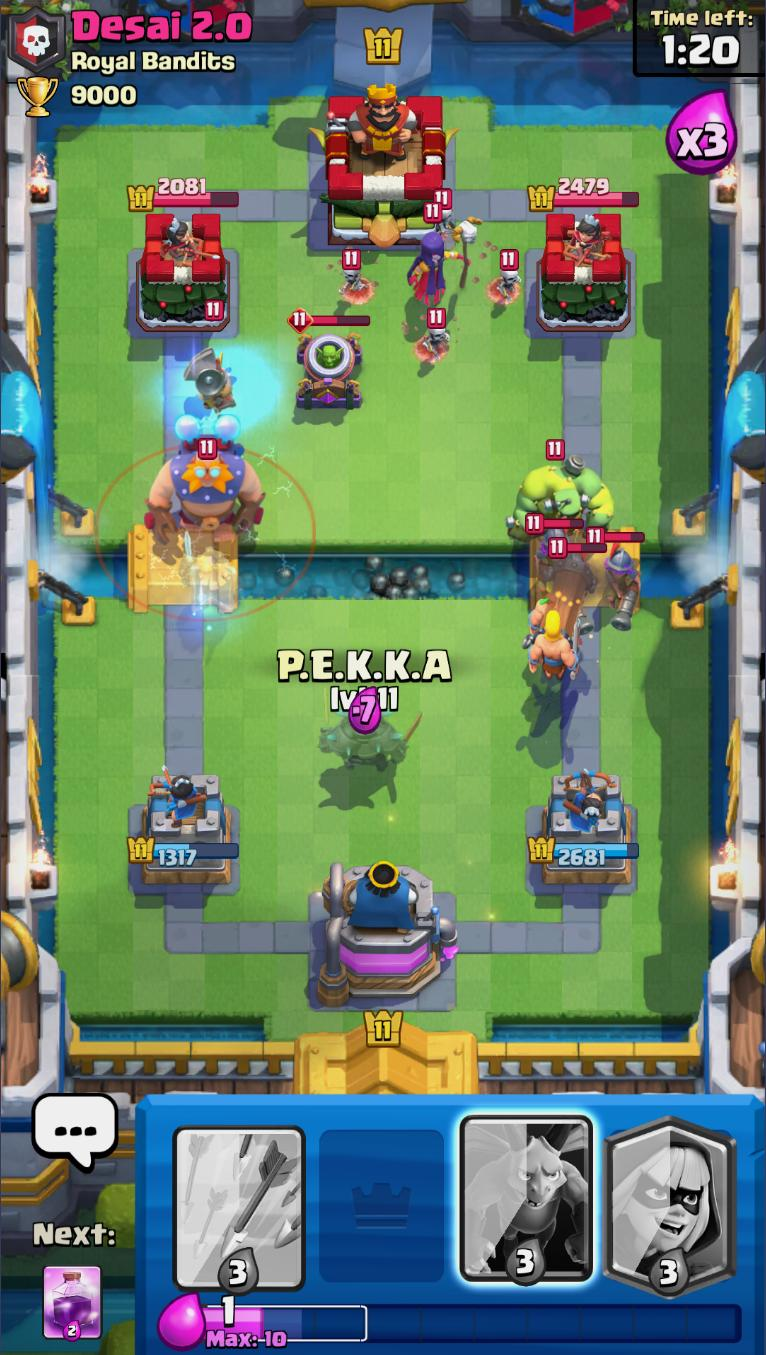ArrowDeck: (167, 1095, 310, 1296)
BanditDeck: (599, 1094, 744, 1296)
BattleRamDeck: (456, 1094, 598, 1295)
ElectroGiant: (146, 413, 269, 545)
Elixir: (203, 1295, 744, 1350)
Empty: (311, 1095, 455, 1296)
EnemyTower: (533, 208, 631, 331), (133, 210, 229, 335)
EvoMortar: (288, 310, 373, 412)
Goblinstein: (505, 440, 612, 545)
GoblinsteinScientist: (183, 302, 237, 415)
KingTower: (308, 82, 456, 248)
Musketeer: (548, 535, 606, 635), (587, 529, 645, 629), (526, 513, 585, 585)
MyBarbarian: (526, 610, 581, 683), (527, 592, 554, 639)
MyKingTower: (319, 856, 458, 1009)
MyPrincessTower: (524, 771, 639, 887), (125, 769, 238, 887)
MyPrincessTowerHP: (125, 836, 238, 868), (525, 835, 637, 867)
MyRoyaleGhost: (180, 532, 242, 616)
PrincessTower: (555, 213, 612, 264), (148, 214, 204, 264)
RageNext: (41, 1264, 106, 1344)
Skeleton: (423, 308, 452, 358), (432, 188, 458, 241), (497, 251, 523, 300), (339, 249, 365, 296)
TowerPrincessHP: (126, 178, 239, 213), (526, 178, 639, 212)
Witch: (406, 201, 481, 304)
